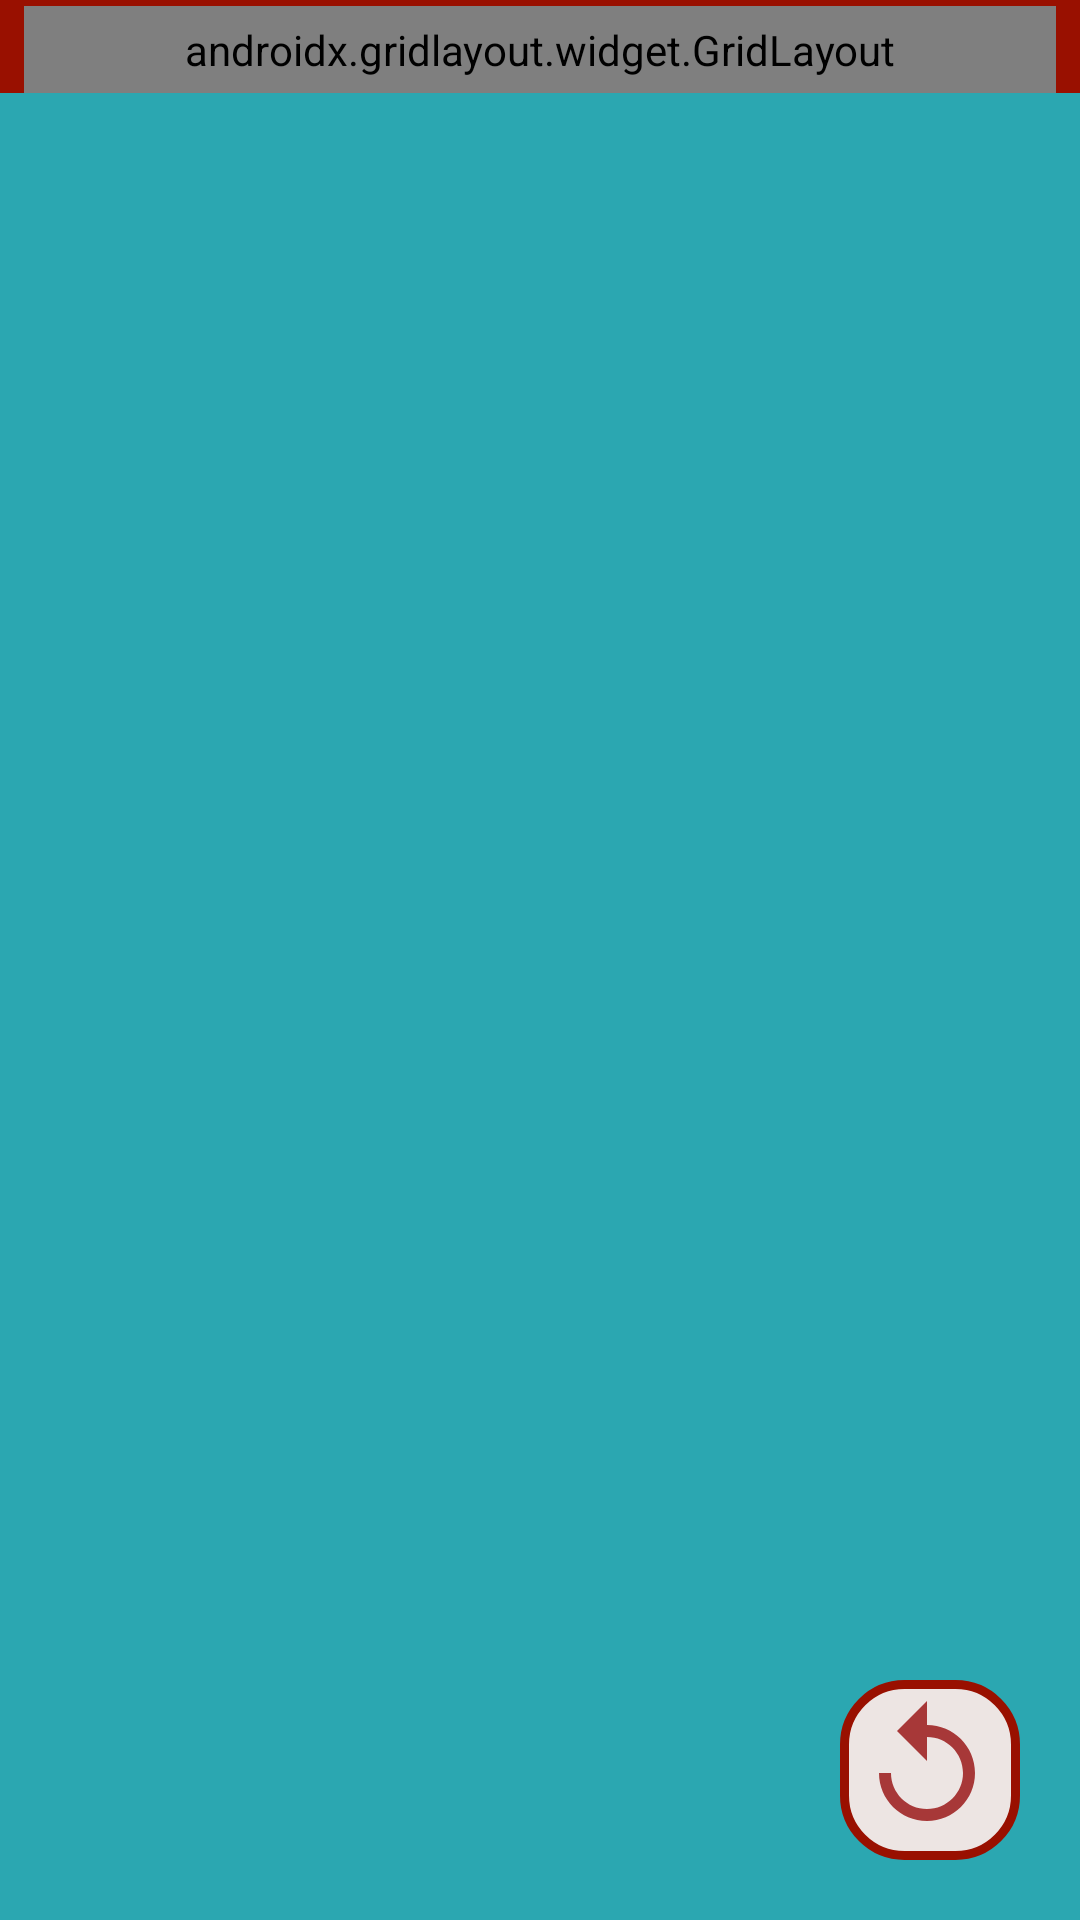

Screen size 1080px x 1920px. Icon name, then its center in pixels as [x,y]:
replay: [930,1770]
